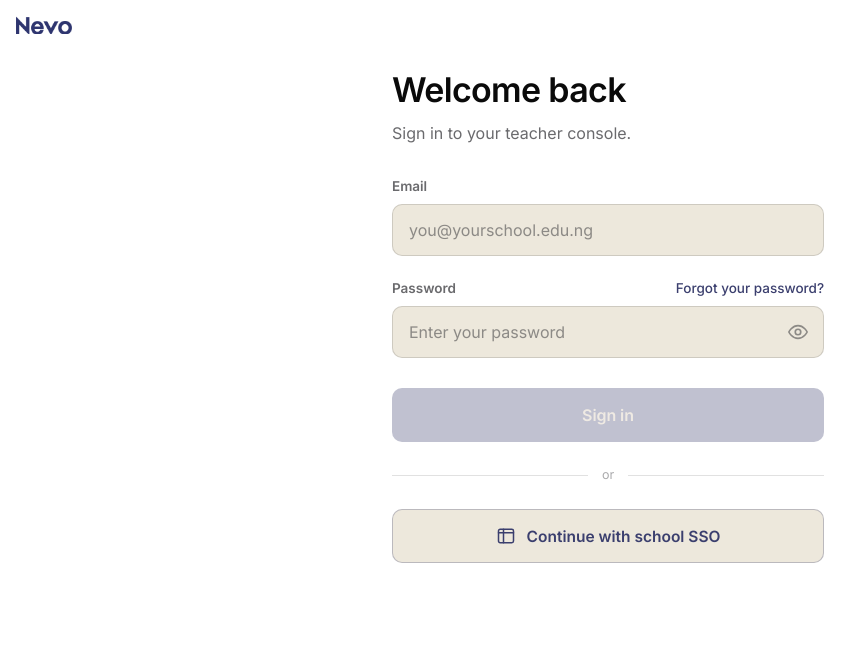
Test: what a failed sign-in says › tells a rate-limited teacher to wait, not to retry
Type "a.adeyemi@example.com" into the field labelled "Email".
click(608, 230); type("a.adeyemi@example.com")  # box [392,204,824,256]
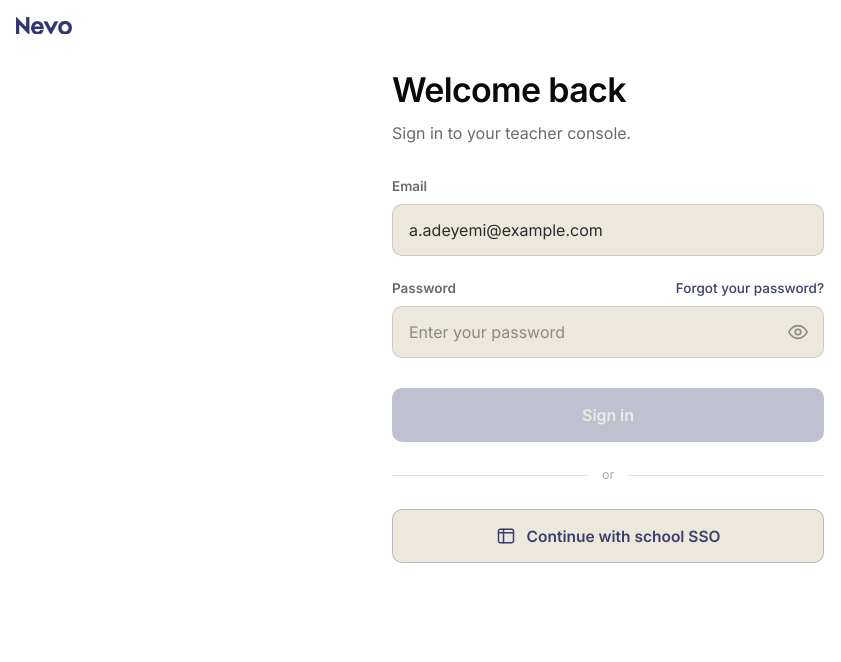
Type "a-password" into the password field labelled "Password".
click(594, 332); type("a-password")  # box [409,307,779,357]
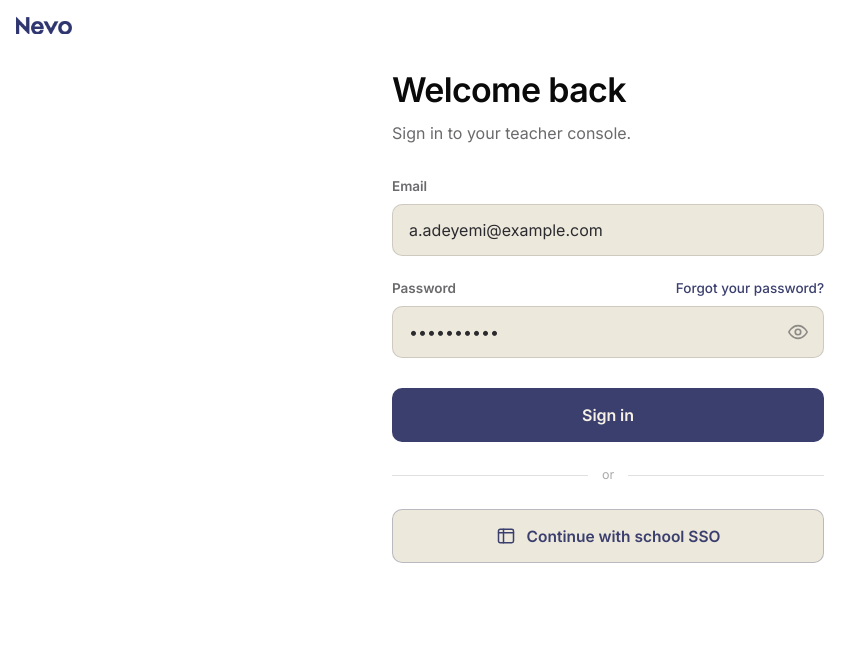
Click the button "Sign in".
click(608, 415)  # box [392,388,824,442]
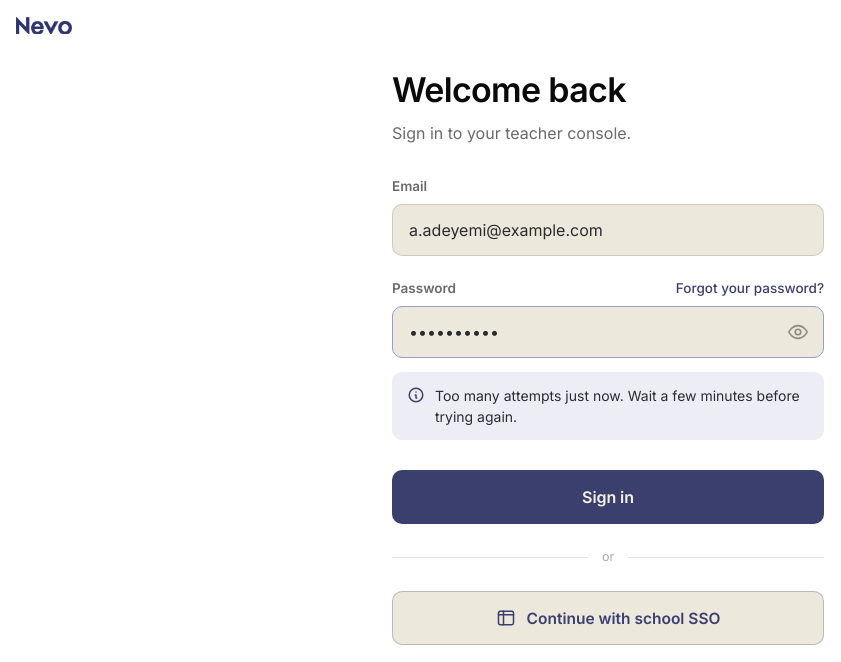
Expected: the text "Too many attempts" shows "Wait a few minutes", [435,387,800,425]
